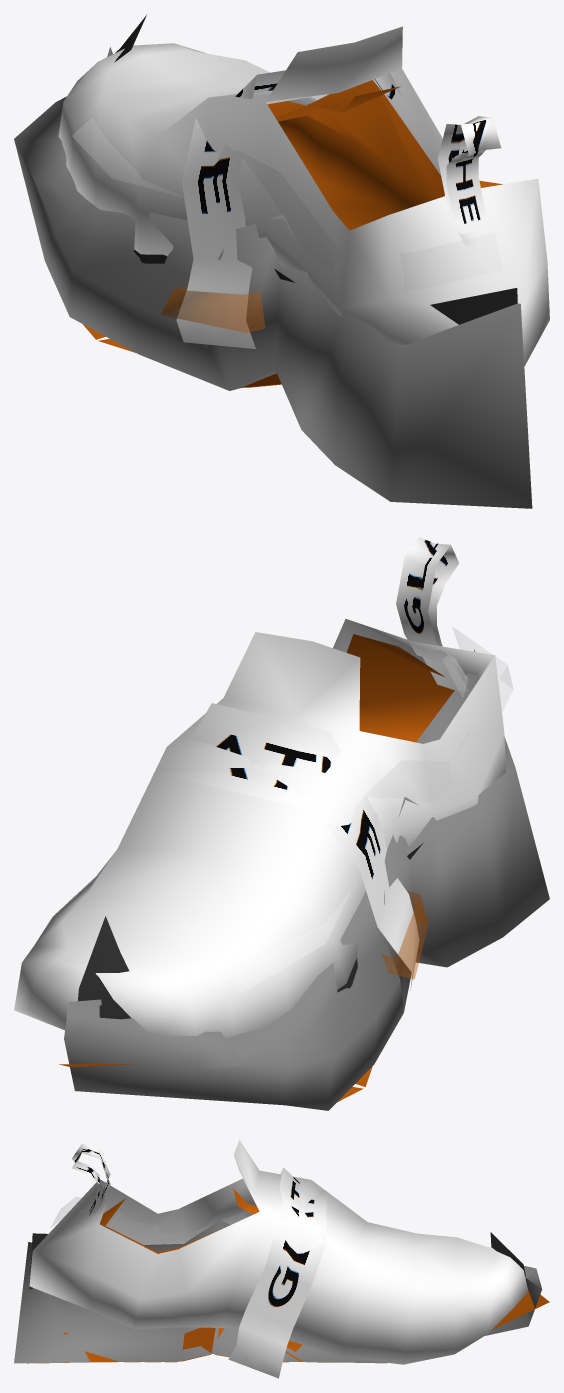
File: Modell.gltf
The picture shows the model from 3 angles, top to bottom: view 1: azimuth 30°, elevation 25°; view 2: azimuth 150°, elevation 25°; view 3: azimuth 270°, elevation 25°; orthographic projection. The views are drawn at different scales.
Parts seen in each view (by area): view 1: Sole, Sock, InnerSock, Lasche, UpperTrim, Lasche.001, SideParts, SoleTrim; view 2: Sock, Sole, Lasche, InnerSock, UpperTrim, Lasche.001, SoleTrim, SideParts; view 3: Sock, Sole, Lasche, Tread, UpperTrim, Lasche.001, InnerSock, SoleTrim.
Boxes of the visible parts, x1=… form: Sole: x1=14, y1=47, x2=532, y2=508; Sock: x1=58, y1=26, x2=549, y2=366; InnerSock: x1=267, y1=80, x2=502, y2=230; Lasche: x1=176, y1=70, x2=402, y2=348; UpperTrim: x1=72, y1=118, x2=502, y2=290; Lasche.001: x1=438, y1=116, x2=501, y2=224; SideParts: x1=160, y1=286, x2=264, y2=332; SoleTrim: x1=114, y1=15, x2=517, y2=324; Sock: x1=14, y1=619, x2=505, y2=1038; Sole: x1=64, y1=673, x2=549, y2=1110; Lasche: x1=153, y1=703, x2=419, y2=990; InnerSock: x1=346, y1=634, x2=454, y2=742; UpperTrim: x1=226, y1=627, x2=512, y2=992; Lasche.001: x1=396, y1=537, x2=468, y2=692; SoleTrim: x1=78, y1=649, x2=475, y2=1019; SideParts: x1=381, y1=891, x2=428, y2=979; Sock: x1=29, y1=1140, x2=528, y2=1364; Sole: x1=14, y1=1220, x2=542, y2=1363; Lasche: x1=228, y1=1167, x2=326, y2=1378; Tread: x1=27, y1=1291, x2=549, y2=1363; UpperTrim: x1=51, y1=1196, x2=252, y2=1241; Lasche.001: x1=71, y1=1143, x2=110, y2=1216; InnerSock: x1=100, y1=1188, x2=259, y2=1253; SoleTrim: x1=29, y1=1232, x2=528, y2=1289.
Size of what is drawn, in the model's own units: 1.73 by 1.93 by 4.35.
10 materials, 2 textured.
